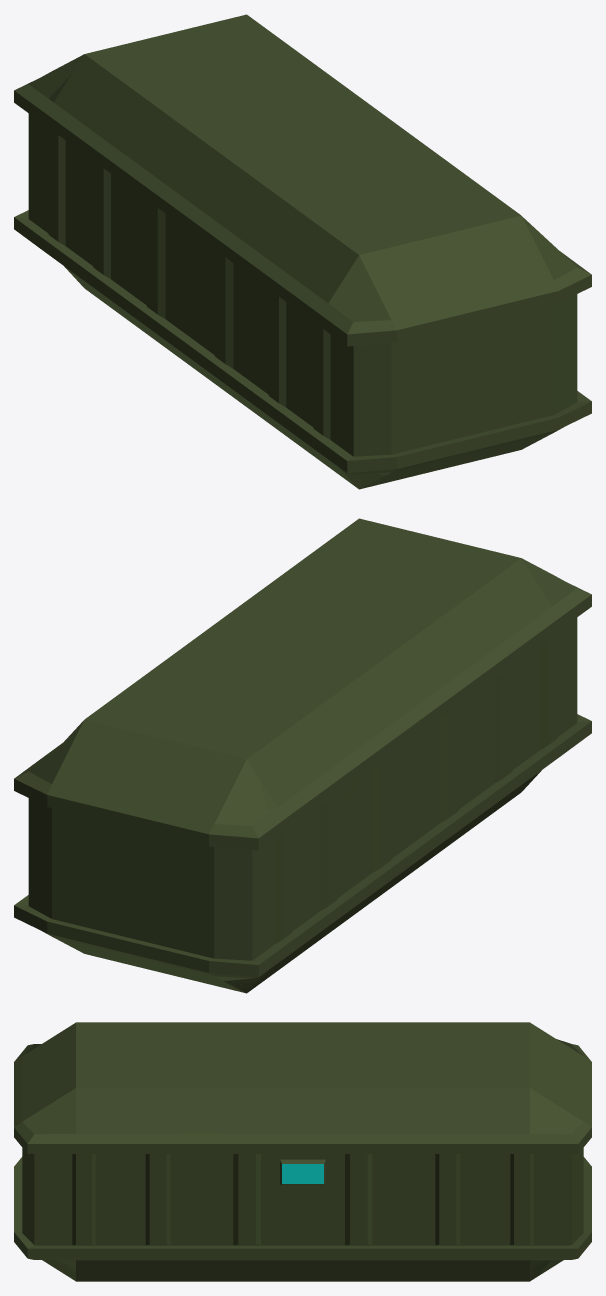
The model's file is weaponcrate.fbx.
3 renders of one model, top to bottom at view 1: azimuth 30°, elevation 25°; view 2: azimuth 150°, elevation 25°; view 3: azimuth 270°, elevation 25°, orthographic. The views are drawn at different scales.
Visible parts, largest first — view 1: Cube, Cube_cell.025, Cube_cell.011, Cube_cell.001, Cube_cell.029, Cube_cell.022, Cube_cell.016, Cube_cell.005, Cube_cell.013, Cube_cell.026, Cube_cell.023; view 2: Cube, Cube_cell.003, Cube_cell, Cube_cell.023, Cube_cell.005, Cube_cell.025, Cube_cell.026, Cube_cell.011, Cube_cell.006, Cube_cell.001, Cube_cell.012, Cube_cell.022 (+3 smaller); view 3: Cube, Cube_cell, Cube_cell.028, Cube_cell.016, Cube_cell.008, Cube_cell.009, Cube_cell.014, Cube_cell.023, Cube_cell.015, Cube_cell.020, Cube_cell.007, Cube_cell.003 (+2 smaller).
Boxes of the visible parts, x1=… form: Cube: x1=14, y1=14, x2=591, y2=488; Cube_cell.025: x1=96, y1=80, x2=173, y2=159; Cube_cell.011: x1=40, y1=219, x2=193, y2=368; Cube_cell.001: x1=245, y1=181, x2=396, y2=336; Cube_cell.029: x1=235, y1=349, x2=461, y2=489; Cube_cell.022: x1=217, y1=215, x2=301, y2=379; Cube_cell.016: x1=449, y1=216, x2=591, y2=437; Cube_cell.005: x1=316, y1=247, x2=472, y2=474; Cube_cell.013: x1=153, y1=290, x2=280, y2=431; Cube_cell.026: x1=14, y1=74, x2=72, y2=239; Cube_cell.023: x1=29, y1=54, x2=83, y2=95; Cube: x1=14, y1=518, x2=591, y2=992; Cube_cell.003: x1=14, y1=841, x2=203, y2=980; Cube_cell: x1=14, y1=707, x2=169, y2=842; Cube_cell.023: x1=118, y1=743, x2=275, y2=931; Cube_cell.005: x1=514, y1=559, x2=591, y2=737; Cube_cell.025: x1=202, y1=693, x2=358, y2=777; Cube_cell.026: x1=176, y1=748, x2=312, y2=981; Cube_cell.011: x1=196, y1=843, x2=390, y2=993; Cube_cell.006: x1=286, y1=648, x2=441, y2=755; Cube_cell.001: x1=454, y1=557, x2=555, y2=715; Cube_cell.012: x1=281, y1=676, x2=392, y2=859; Cube_cell.022: x1=447, y1=640, x2=512, y2=772; Cube: x1=14, y1=1022, x2=591, y2=1281; Cube_cell: x1=457, y1=1055, x2=591, y2=1196; Cube_cell.028: x1=182, y1=1064, x2=308, y2=1191; Cube_cell.016: x1=14, y1=1088, x2=104, y2=1258; Cube_cell.008: x1=261, y1=1184, x2=353, y2=1246; Cube_cell.009: x1=483, y1=1194, x2=557, y2=1258; Cube_cell.014: x1=42, y1=1218, x2=201, y2=1281; Cube_cell.023: x1=530, y1=1030, x2=586, y2=1093; Cube_cell.015: x1=306, y1=1088, x2=393, y2=1152; Cube_cell.020: x1=368, y1=1107, x2=440, y2=1197; Cube_cell.007: x1=96, y1=1134, x2=219, y2=1219; Cube_cell.003: x1=538, y1=1169, x2=591, y2=1275.
Size of the model in its own units: 300 by 111 by 121.
